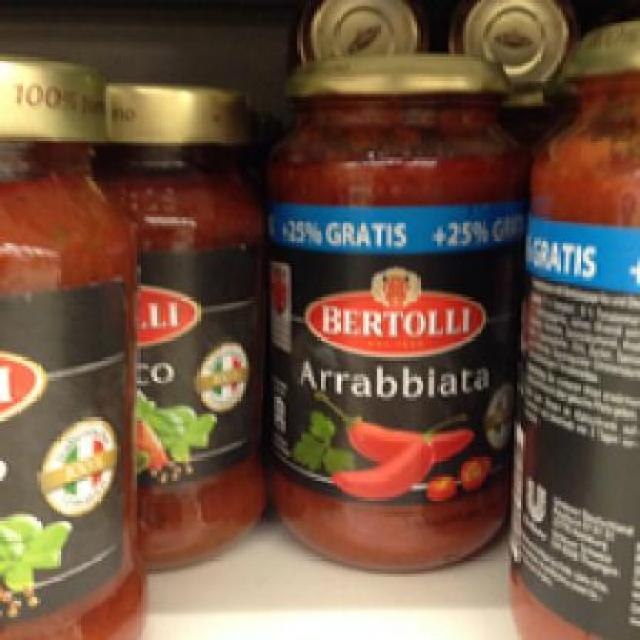Tomato Sauce: (256, 46, 530, 568), (96, 76, 270, 570), (497, 14, 637, 614)
